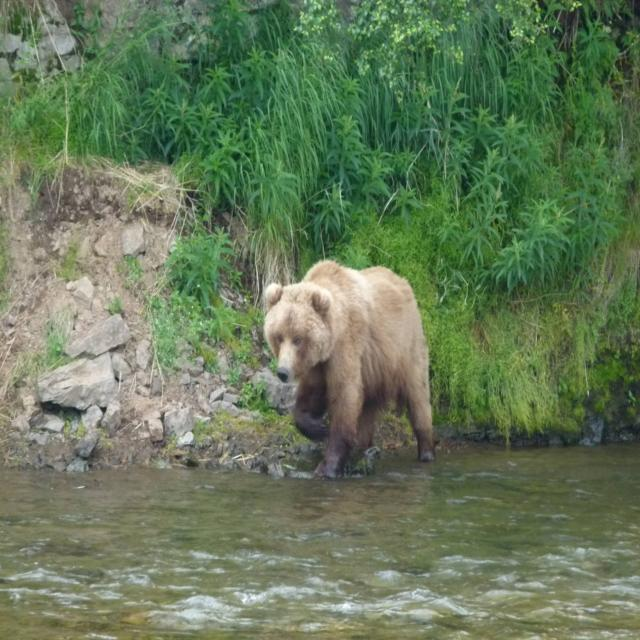bear face: (264, 259, 432, 461)
